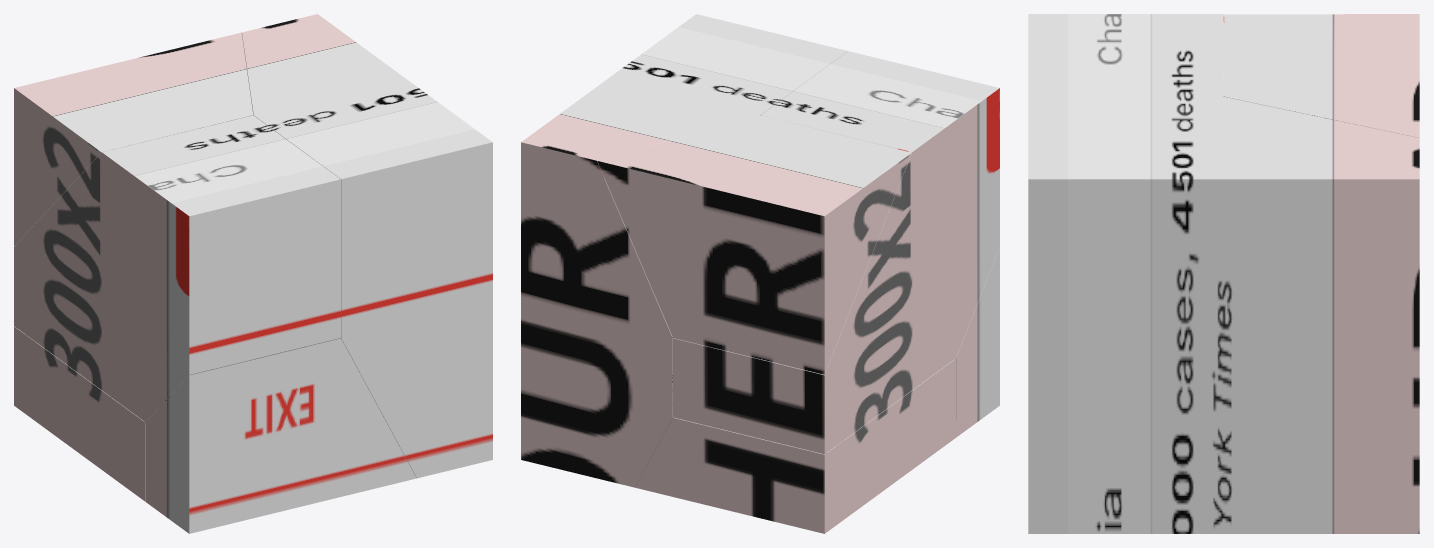
File: CubeWithTexture_frag.glb
3 renders of one model, left to right at view 1: azimuth 30°, elevation 25°; view 2: azimuth 150°, elevation 25°; view 3: azimuth 270°, elevation 25°, orthographic. The views are drawn at different scales.
Visible parts, largest first — view 1: Cube_cell.002; view 2: Cube_cell.002; view 3: Cube_cell.002.
Part boxes in pixels (x1,y1,x2,y2): Cube_cell.002: (14,14,492,533); Cube_cell.002: (521,14,999,533); Cube_cell.002: (1028,14,1419,533).
Bounding box in the file's own units: 2 × 2 × 2.
1 material, 1 textured.
